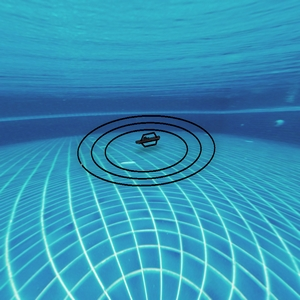circle: (73, 107, 226, 202)
submarine: (140, 136, 159, 147)
